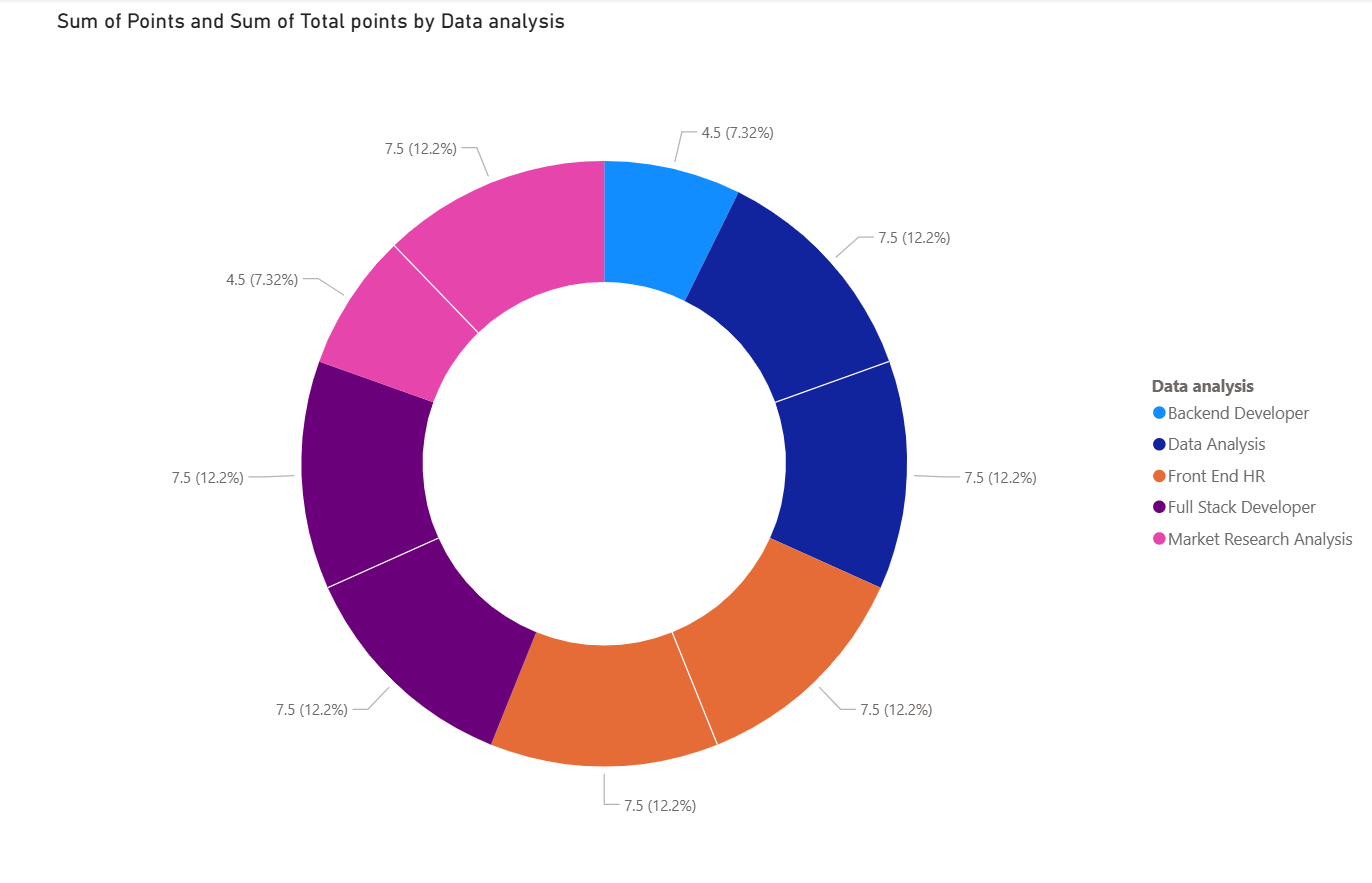

This screenshot's page, from the dashboard's own definition file:
{"tool":"powerbi","page":{"name":"Page 2","canvas":[1280,720],"ordinal":1},"visuals":[{"type":"donutChart","fields":{"Category":["Sheet1.Course Name","Sheet1.Date.Variation.Date Hierarchy.Year","Sheet1.Date.Variation.Date Hierarchy.Quarter","Sheet1.Date.Variation.Date Hierarchy.Month","Sheet1.Date.Variation.Date Hierarchy.Day"],"Y":["Sum(Sheet1.Points)","Sum(Sheet1.Total points)"]},"box":[101.6,7.2,1060.1,712.8],"z":0}]}

Visuals, with their boxes on the page's 1280x720 design canvas (x1, y1, x2, y2). These are canvas units, not pixel positions in the 1372x883 screenshot, which may show the page scaled, cropped or inside an application window:
donutChart - Sheet1.Course Name x Sheet1.Date.Variation.Date Hierarchy.Year: left=102, top=7, right=1162, bottom=720
